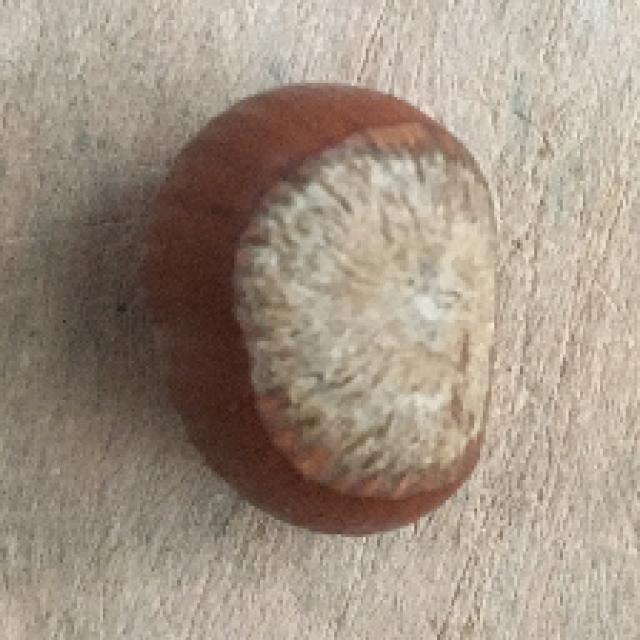qualityHazelnut: (144, 79, 489, 537)
